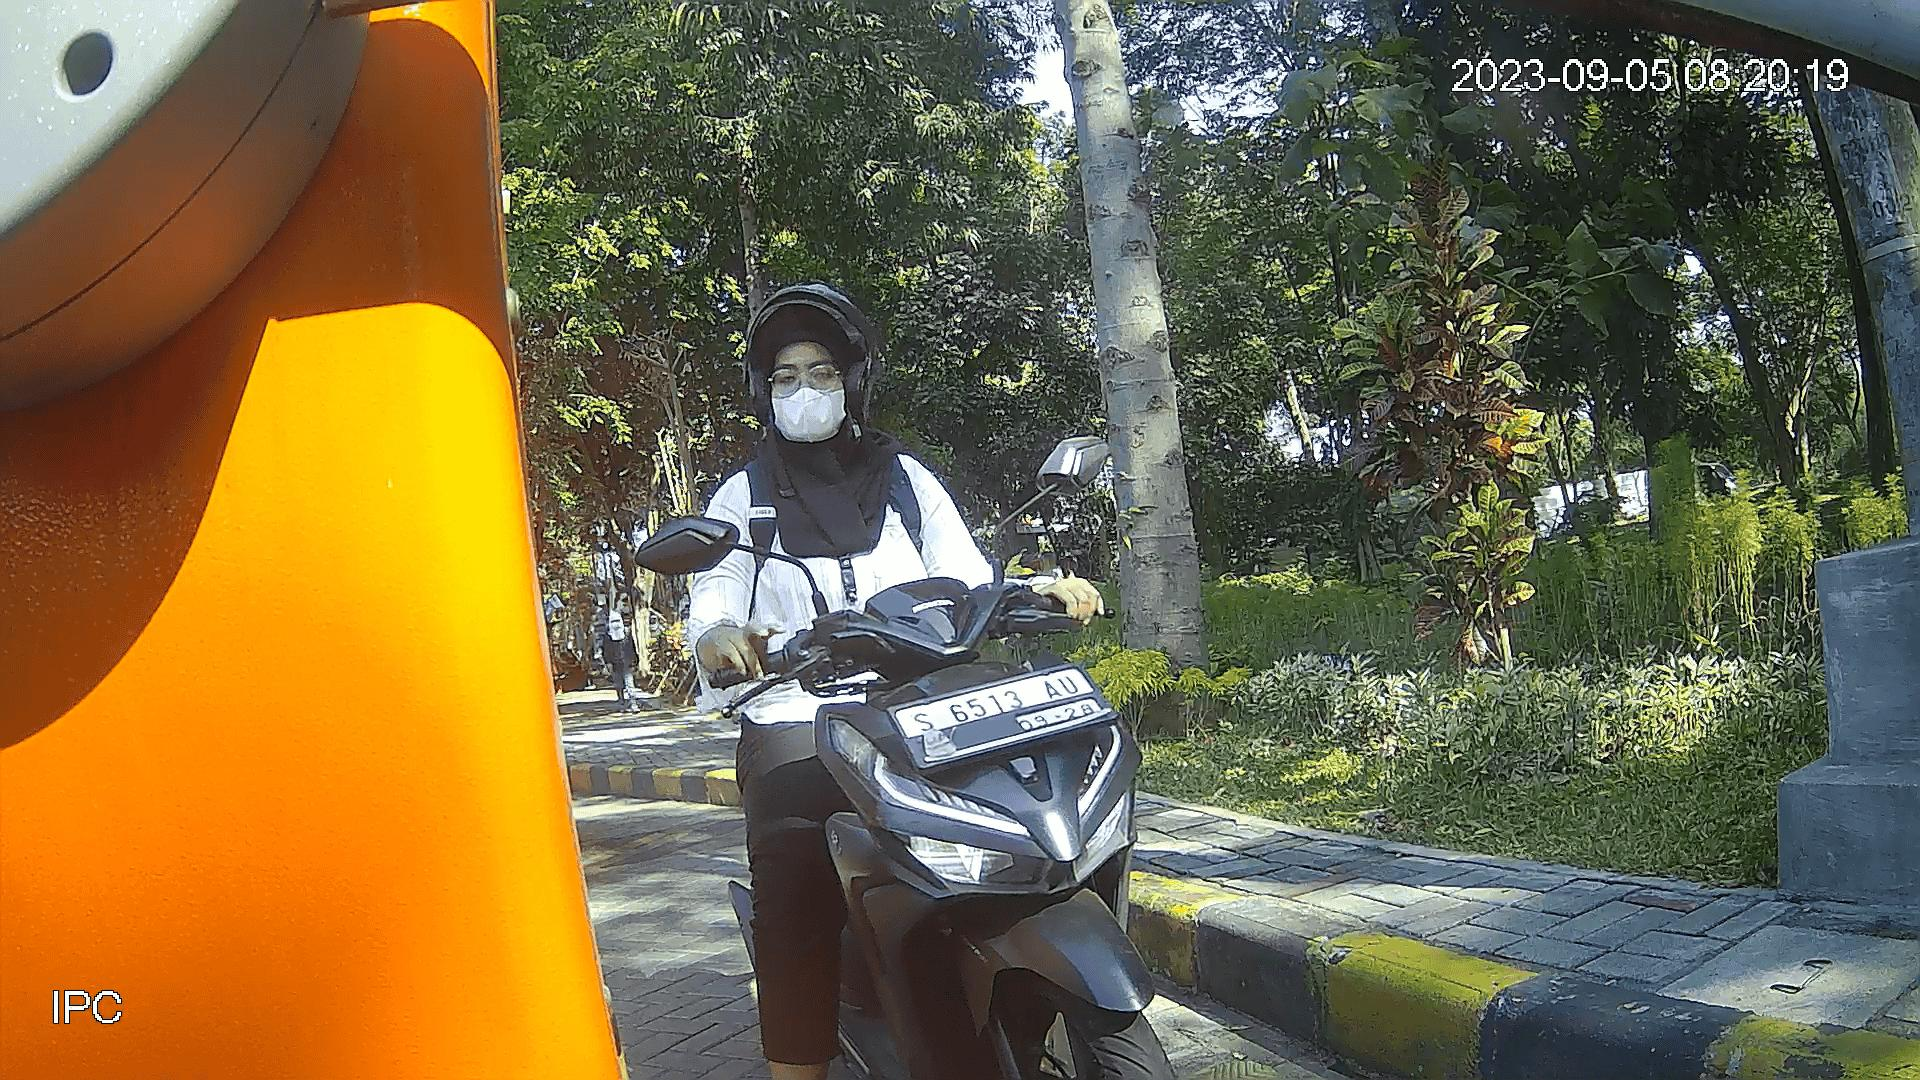plat: (882, 659, 1125, 774)
